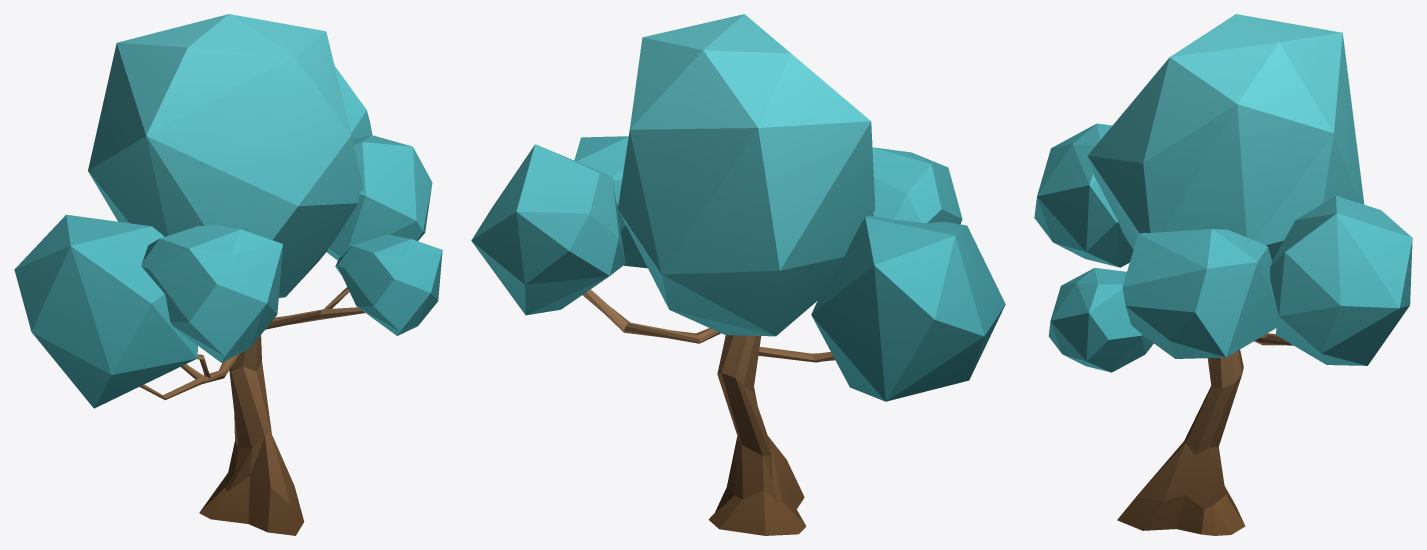
Rendered from tree_oak_blue.fbx.
3 views of the same model, side by side, from view 1: azimuth 30°, elevation 25°; view 2: azimuth 150°, elevation 25°; view 3: azimuth 270°, elevation 25° (orthographic). The views are drawn at different scales.
Parts seen in each view (by area): view 1: tree_oak_blue; view 2: tree_oak_blue; view 3: tree_oak_blue.
Boxes of the visible parts, box(x1,y1,x2,y2) form: tree_oak_blue: box(14, 14, 442, 535); tree_oak_blue: box(471, 14, 1005, 535); tree_oak_blue: box(1034, 14, 1412, 535).
Bounding box in the file's own units: 7.55 × 8.32 × 5.9.
1 material, 1 textured.
